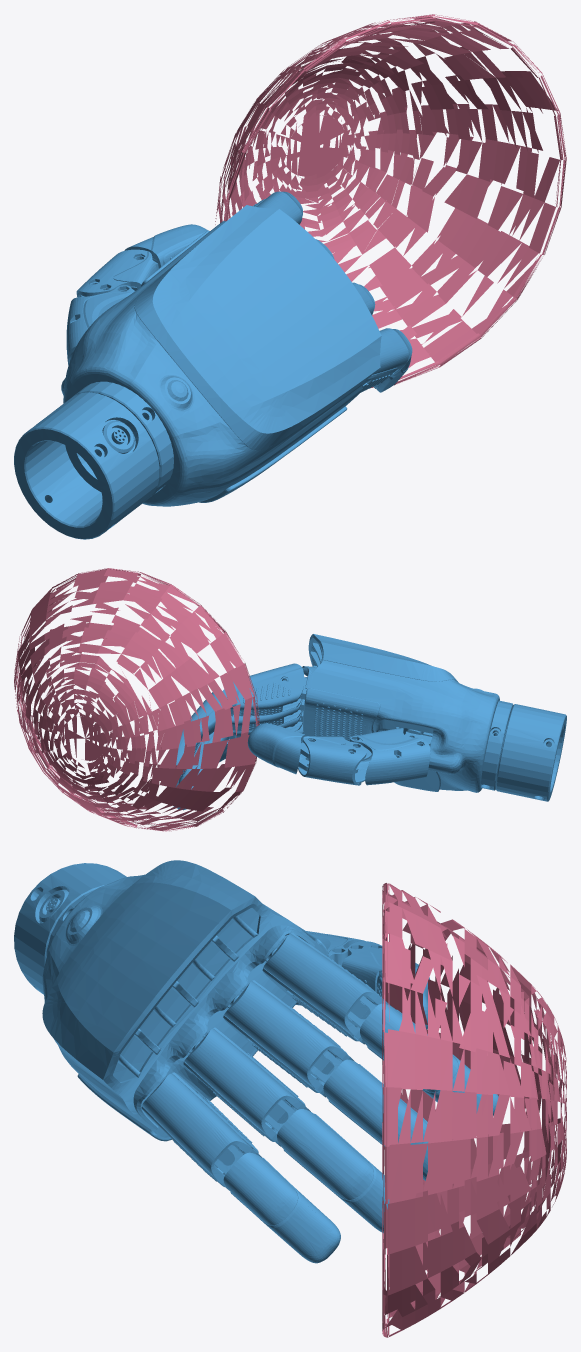
3 views of the same model, one above another, from view 1: azimuth 30°, elevation 25°; view 2: azimuth 150°, elevation 25°; view 3: azimuth 270°, elevation 25° (orthographic). The views are drawn at different scales.
Parts seen in each view (by area): view 1: 4; view 2: 4; view 3: 4.
Part boxes in pixels (left/top/right/bottom): 4: left=14, top=14, right=566, bottom=539; 4: left=14, top=568, right=566, bottom=831; 4: left=14, top=860, right=566, bottom=1337.
Bounding box in the file's own units: 0.2989 × 0.1584 × 0.1917.
